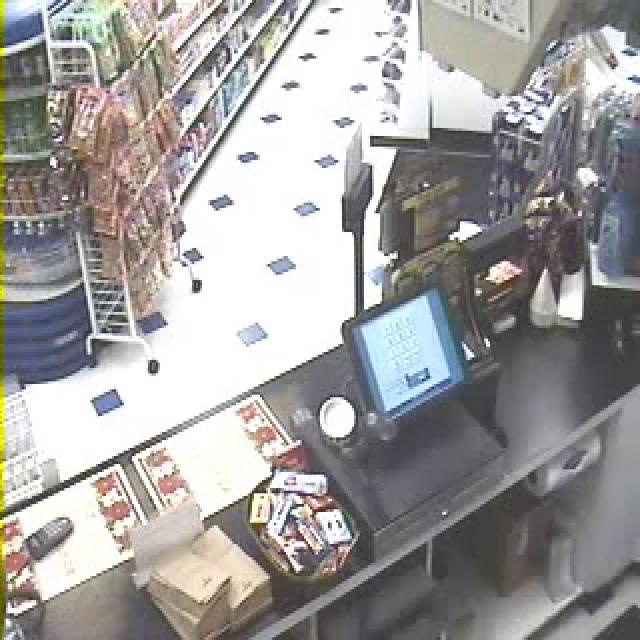robbery: (140, 116, 531, 640)
